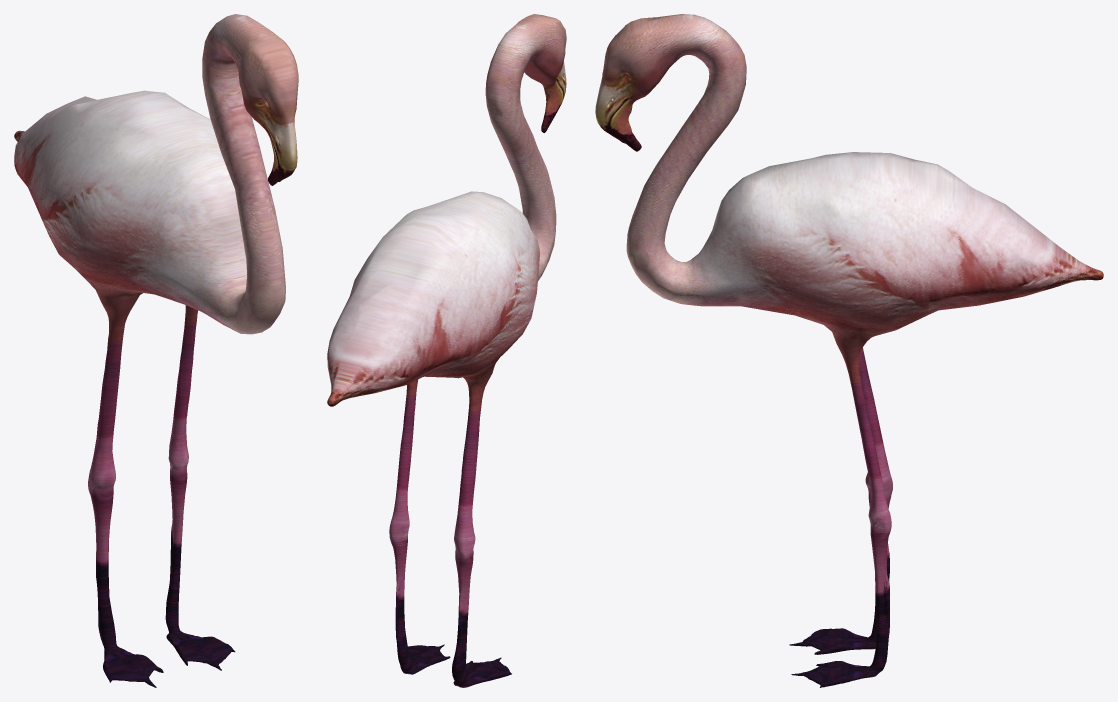
The model's file is flamingo.glb.
3 views of the same model, side by side, from view 1: azimuth 30°, elevation 25°; view 2: azimuth 150°, elevation 25°; view 3: azimuth 270°, elevation 25° (orthographic). The views are drawn at different scales.
Parts seen in each view (by area): view 1: 3DSMeshMatrix; view 2: 3DSMeshMatrix; view 3: 3DSMeshMatrix.
Part boxes in pixels (x1,y1,x2,y2): 3DSMeshMatrix: (14,14,298,687); 3DSMeshMatrix: (327,14,566,687); 3DSMeshMatrix: (595,14,1103,687).
Bounding box in the file's own units: 1553 × 5912 × 4230.
1 material, 1 textured.
